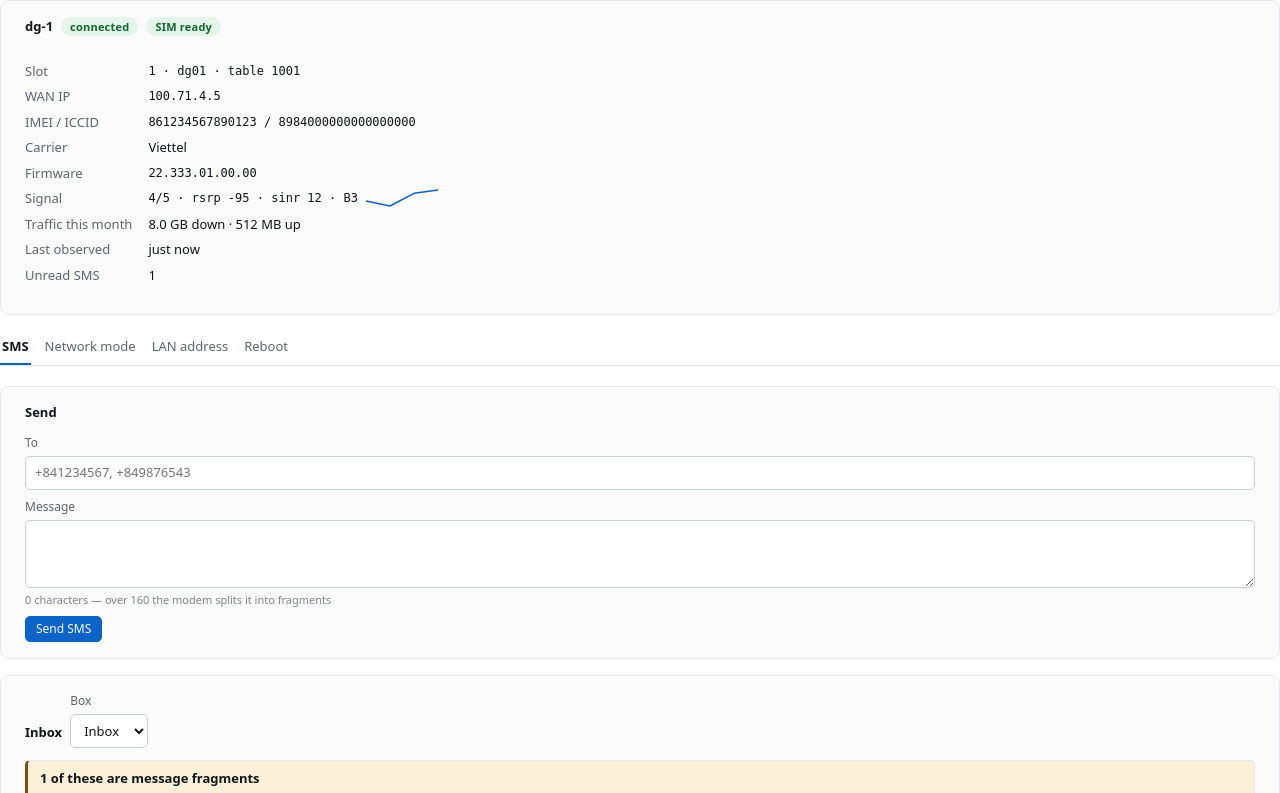
LAN IP change › offers a copy-paste command when the firmware cannot change its LAN address
Check: the tab "SMS" is shown, box [0, 331, 31, 364]
Step 1. Click the tab "LAN address" → [190, 348], box [150, 331, 230, 364]
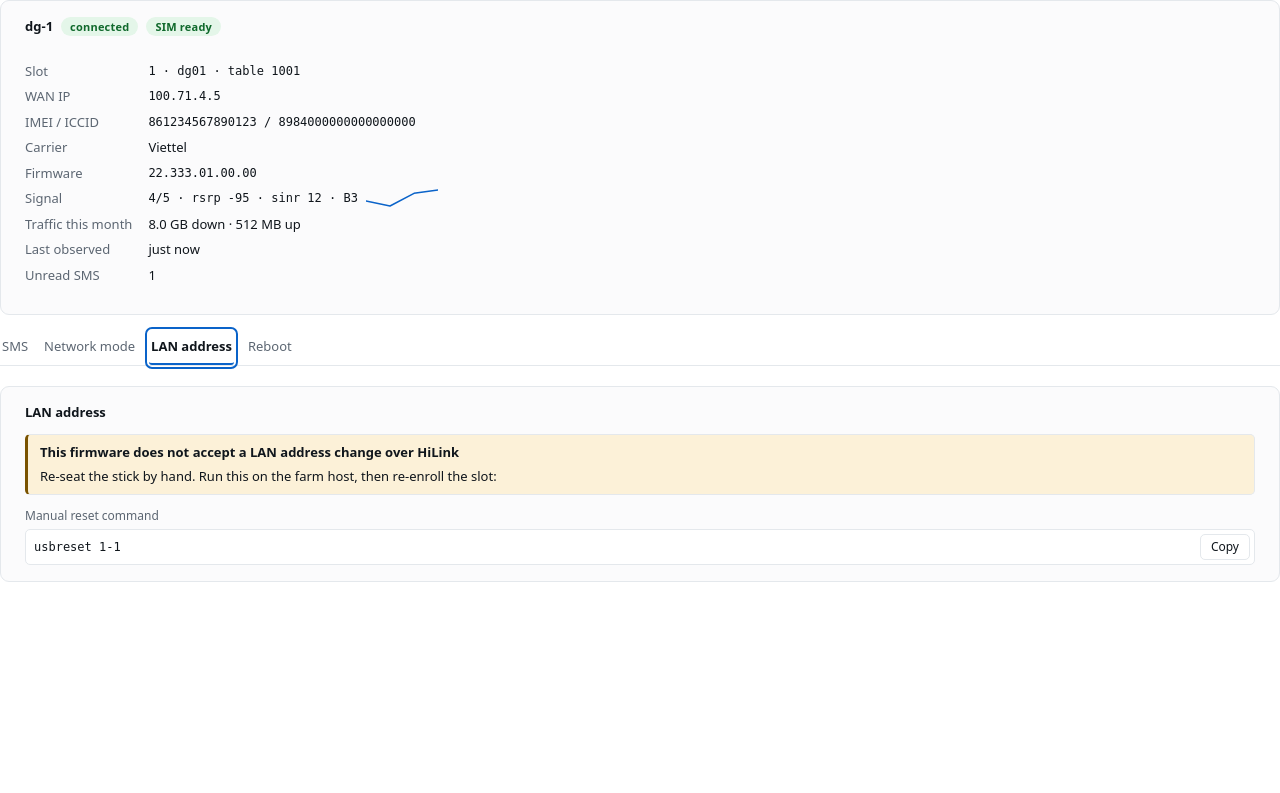
Check: the text "This firmware does not accept a LAN address change over HiLink" is shown, box [40, 443, 459, 461]
Check: the text "usbreset 1-1" is shown, box [34, 540, 121, 554]
